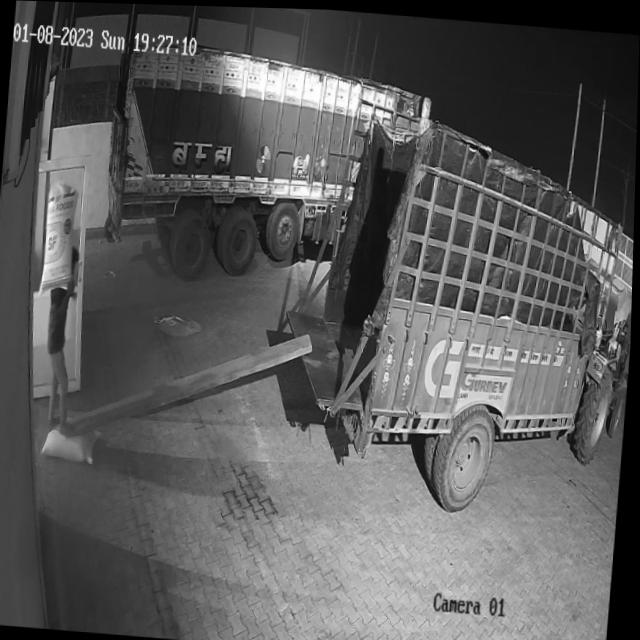sack: (41, 181, 80, 295), (44, 422, 104, 462)
